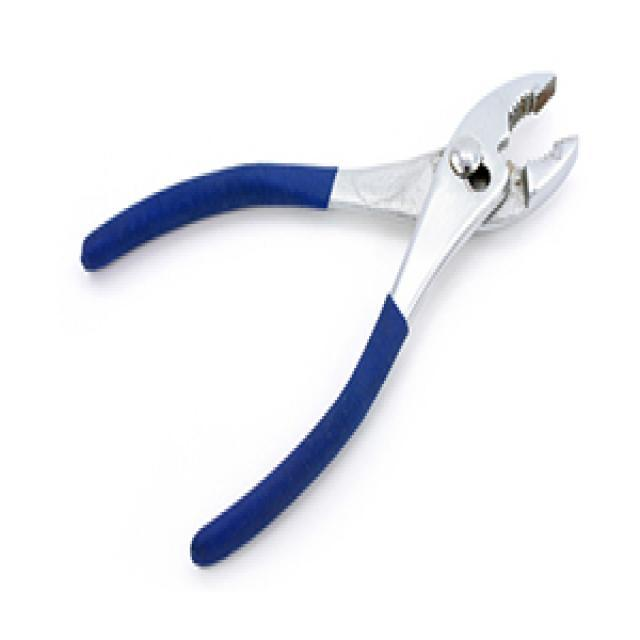pliers: (70, 64, 590, 580)
